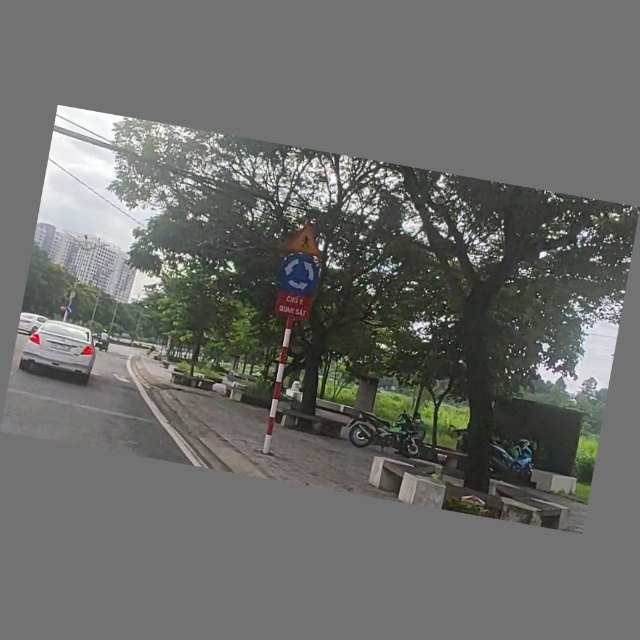P.102: (58, 304, 67, 313)
R.302a: (66, 305, 76, 316)
R.303: (277, 253, 322, 297)
W.224: (286, 221, 329, 259)
